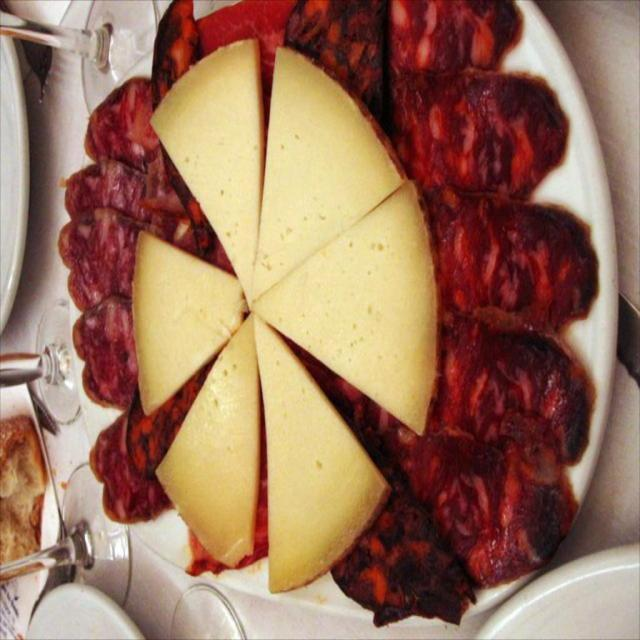Cheese: (135, 36, 442, 598)
